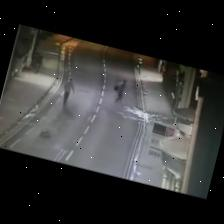person: (62, 78, 73, 104), (115, 80, 125, 102)
